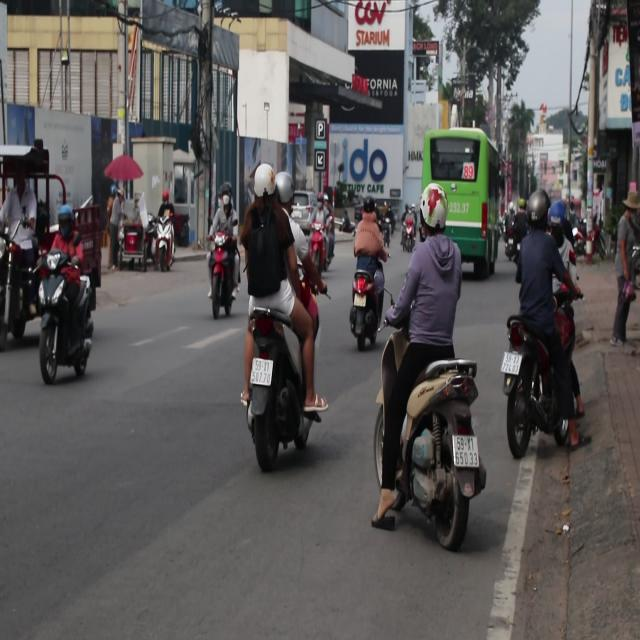bus: (422, 130, 504, 278)
car: (288, 192, 320, 234)
motorbike: (388, 347, 488, 555), (236, 316, 330, 475), (503, 310, 590, 477), (33, 240, 96, 384), (350, 265, 385, 350), (201, 233, 238, 312), (157, 218, 180, 267), (309, 230, 331, 280)
